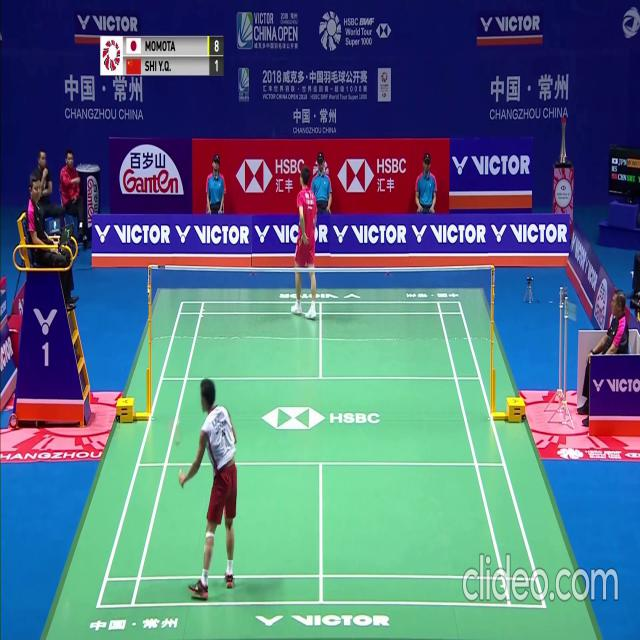Shuttlecock: (175, 418, 180, 426)
